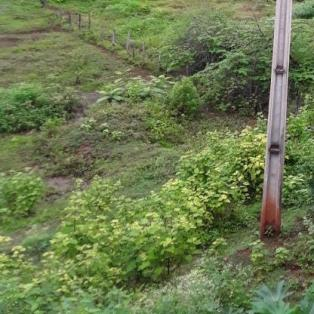Poste: (252, 0, 313, 229)
